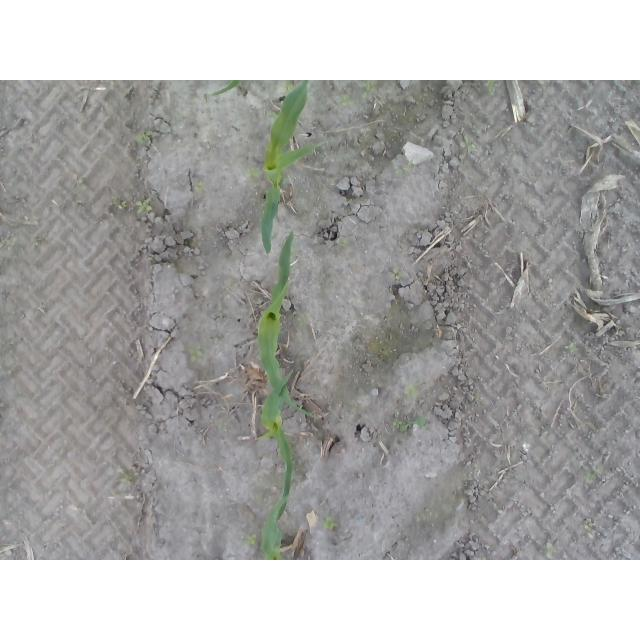Maize: (258, 231, 327, 422), (261, 80, 331, 256), (254, 369, 295, 560)
Weeds: (581, 461, 604, 484), (395, 416, 427, 432), (134, 198, 154, 217), (360, 81, 378, 100), (397, 159, 416, 176), (116, 468, 135, 485), (336, 93, 356, 107), (189, 345, 205, 362), (484, 80, 498, 97), (391, 269, 409, 282), (192, 179, 208, 193), (461, 137, 475, 152), (137, 133, 152, 147), (245, 533, 259, 547), (325, 517, 339, 530), (282, 82, 296, 94), (584, 522, 596, 536), (246, 170, 264, 179), (406, 385, 419, 397), (115, 199, 132, 208), (547, 542, 556, 559), (72, 181, 88, 190), (299, 316, 310, 327), (337, 238, 348, 247), (568, 342, 577, 351)
